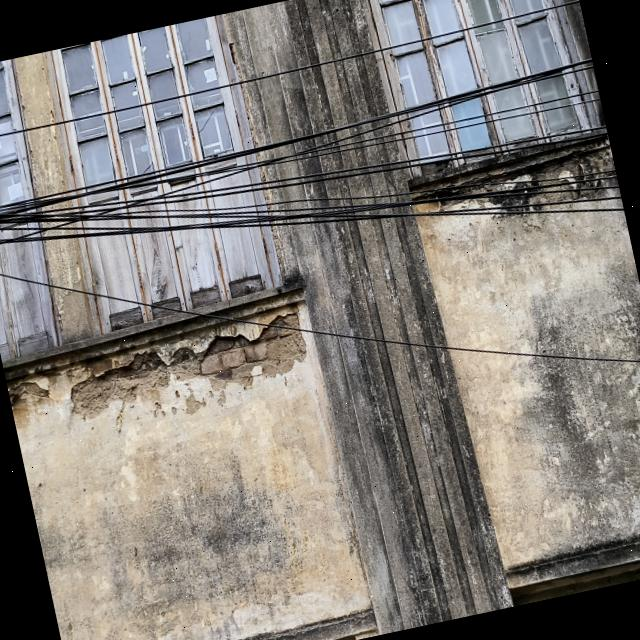spalling: (71, 313, 306, 416)
stain_mould: (3, 0, 640, 640), (521, 259, 640, 538)
